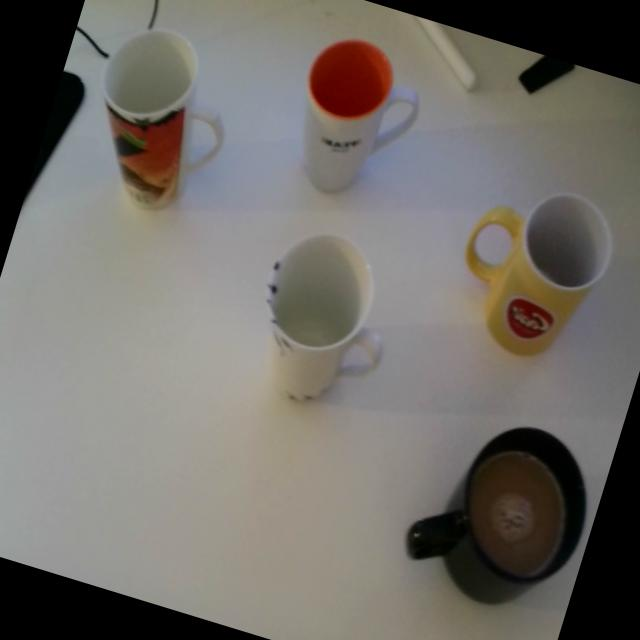Cocio Cup: (432, 166, 628, 377)
Cup: (392, 396, 608, 628)
Halloween cup: (64, 9, 250, 226)
Hand painted cup: (232, 216, 412, 421)
White Cup: (273, 25, 435, 214)
